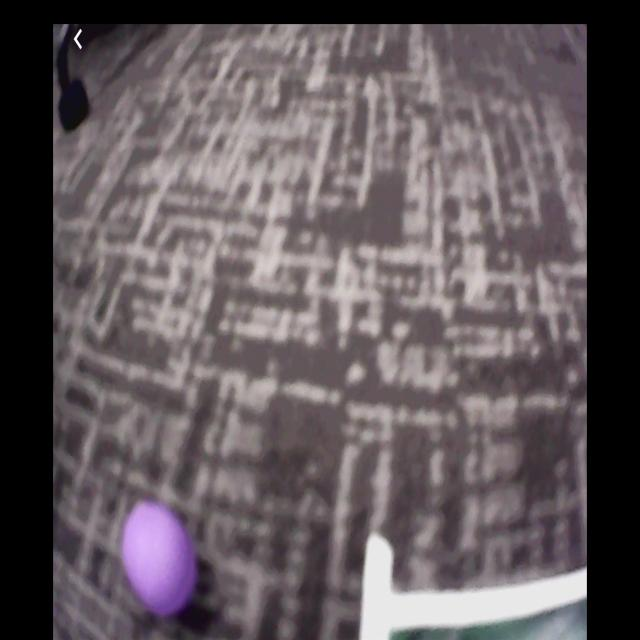ball: (124, 502, 200, 622)
